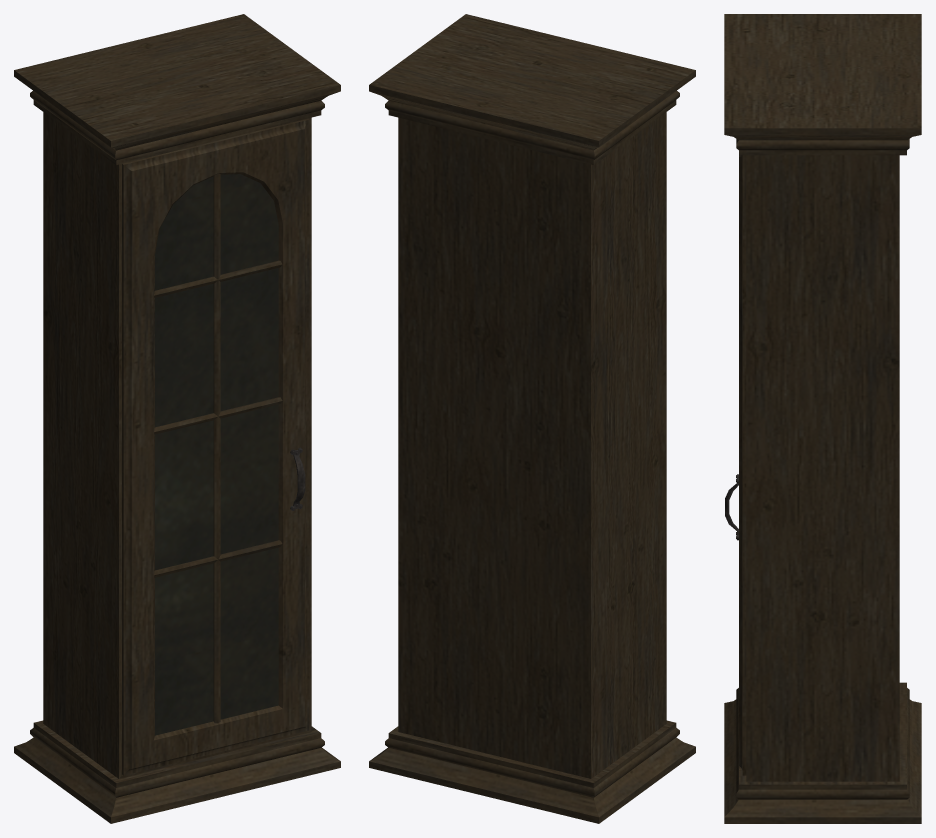
The model's file is display_cabinet_mp_1_4.obj.
The picture shows the model from 3 angles, left to right: view 1: azimuth 30°, elevation 25°; view 2: azimuth 150°, elevation 25°; view 3: azimuth 270°, elevation 25°; orthographic projection.
Visible parts, largest first — view 1: display_cabinet_mp_1_4_door, display_cabinet_mp_1_4; view 2: display_cabinet_mp_1_4; view 3: display_cabinet_mp_1_4, display_cabinet_mp_1_4_door.
Part boxes in pixels (<box>): display_cabinet_mp_1_4_door: <box>122,118,309,775</box>; display_cabinet_mp_1_4: <box>14,14,340,823</box>; display_cabinet_mp_1_4: <box>369,14,695,823</box>; display_cabinet_mp_1_4: <box>724,14,921,823</box>; display_cabinet_mp_1_4_door: <box>725,155,746,775</box>.
Bounding box in the file's own units: 0.74 × 2.1 × 0.54.
